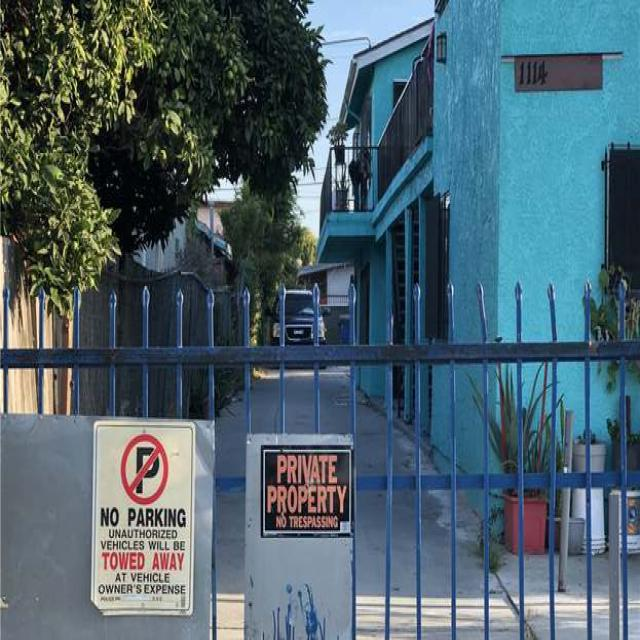House: (315, 0, 640, 542)
